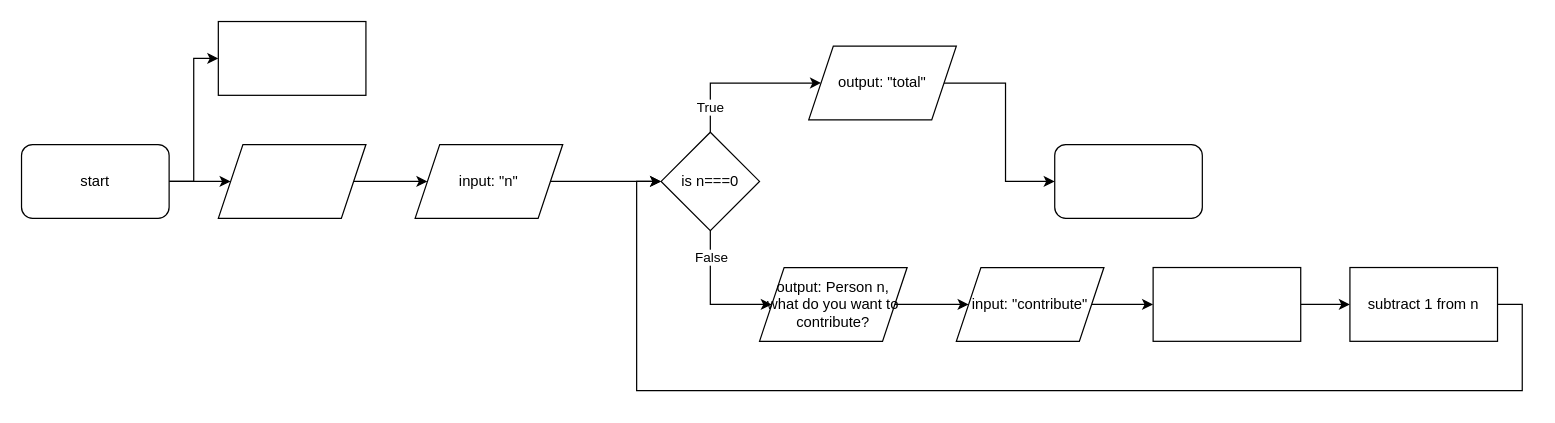
The diagram is 1555 pixels wide and 423 high, and some of its shapes have lost their labels. The box of each missing label's shape, as (x1, y1, x2, y2) in pixels:
add "contribute" to "total": (1152, 266, 1301, 341)
End: (1053, 143, 1202, 218)
Output: How many people?: (217, 143, 366, 218)
total===0: (217, 20, 366, 95)
